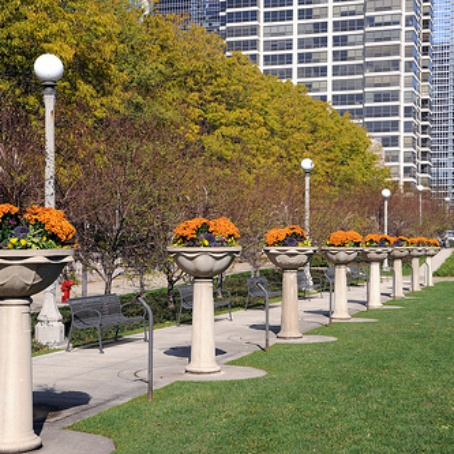building: (216, 1, 448, 168)
flowers: (1, 197, 76, 254), (165, 211, 245, 251), (257, 223, 315, 249), (324, 228, 364, 249)
grass: (156, 290, 454, 447)
light pole: (27, 50, 81, 362), (295, 157, 321, 292), (377, 187, 392, 249)
vegetation: (1, 33, 454, 238)
